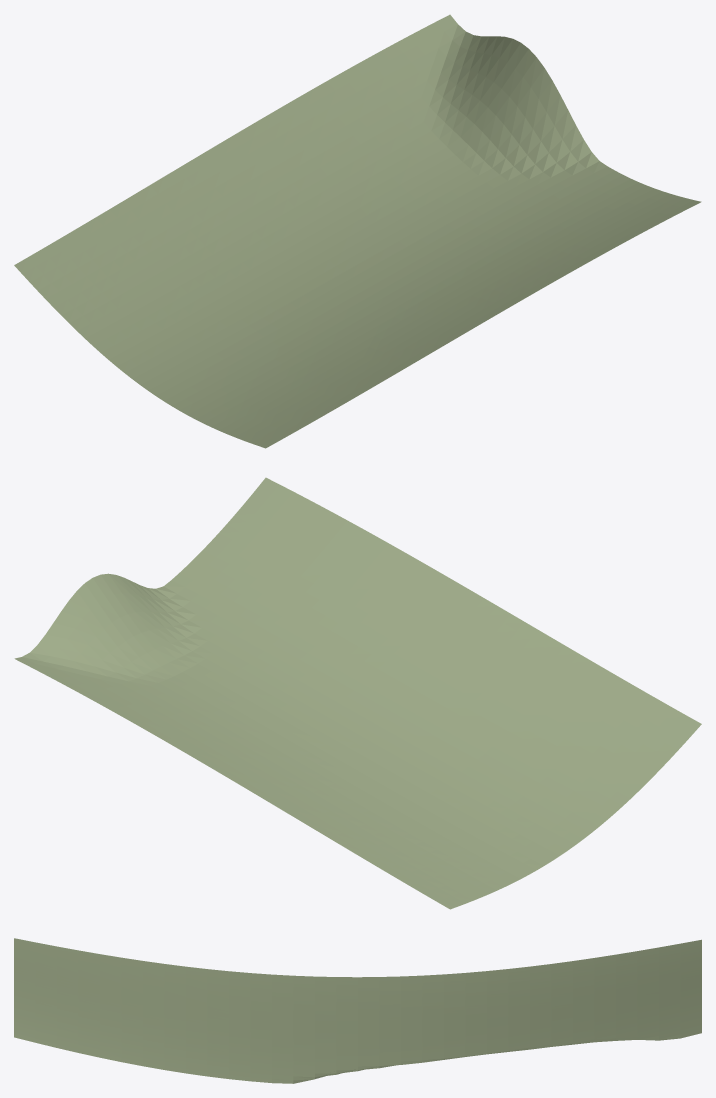
File: expanse-25-10.glb
3 views of the same model, one above another, from view 1: azimuth 30°, elevation 25°; view 2: azimuth 150°, elevation 25°; view 3: azimuth 270°, elevation 25° (orthographic). The views are drawn at different scales.
Visible parts, largest first — view 1: expanse-25-10; view 2: expanse-25-10; view 3: expanse-25-10.
Boxes of the visible parts, box(x1,y1,x2,y2) form: expanse-25-10: box(14, 14, 701, 448); expanse-25-10: box(14, 477, 701, 909); expanse-25-10: box(14, 938, 701, 1083).
Size of the model in its own units: 256 by 110 by 256.
